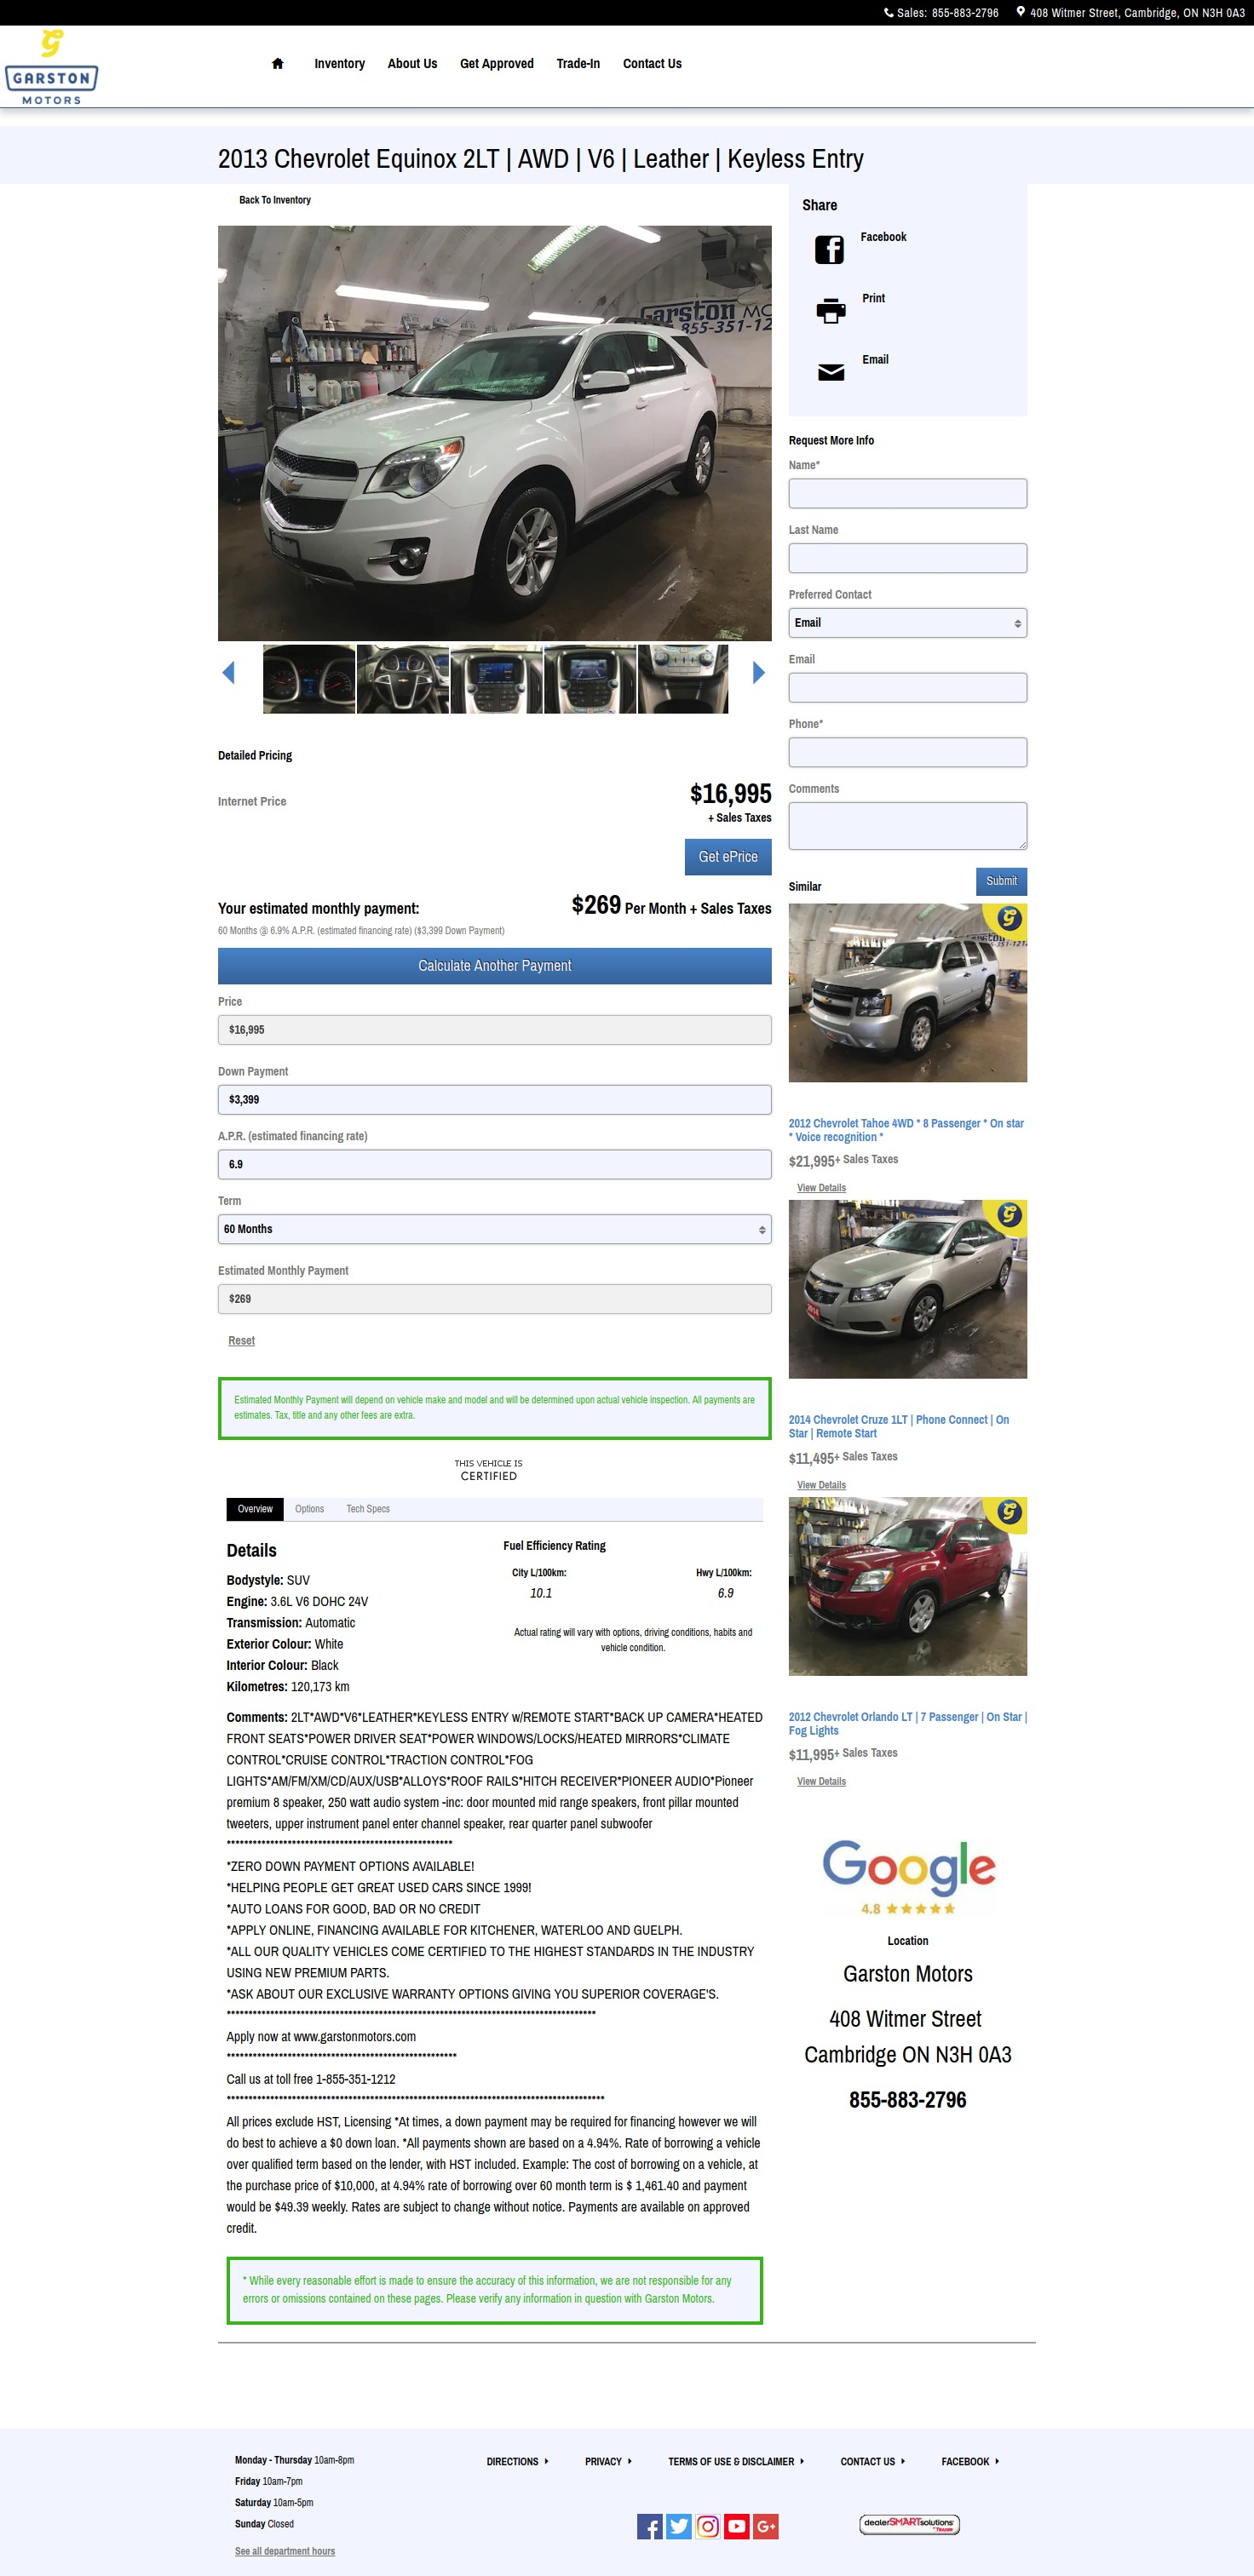car: (753, 660, 766, 685)
